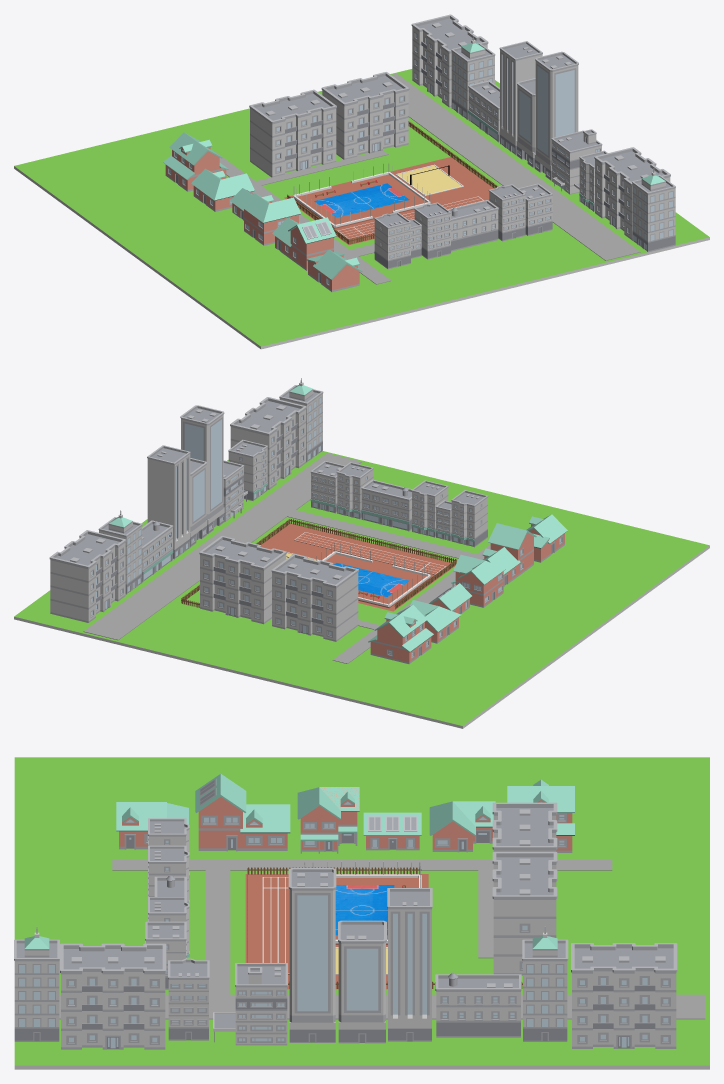
The model's file is environment.fbx.
3 renders of one model, top to bottom at view 1: azimuth 30°, elevation 25°; view 2: azimuth 150°, elevation 25°; view 3: azimuth 270°, elevation 25°, orthographic. The views are drawn at different scales.
Visible parts, largest first — view 1: PlayField, Cube.011, large_buildingA, large_buildingA.001, skyscraperB, large_buildingA.003, large_buildingA.002, skyscraperE.001, skyscraperF, skyscraperE, house_type03, house_type06 (+17 smaller); view 2: PlayField, Cube.011, large_buildingA, large_buildingA.003, large_buildingA.001, large_buildingA.002, skyscraperF, skyscraperB, house_type06, large_buildingF, house_type03, house_type02 (+19 smaller); view 3: PlayField, large_buildingA.002, large_buildingA.003, skyscraperB, skyscraperF, large_buildingA.001, skyscraperA, house_type03, large_buildingF.001, large_buildingG, skyscraperE.001, skyscraperE (+19 smaller).
Part boxes in pixels (bbox=[...]): PlayField: bbox=[14, 69, 709, 349]; Cube.011: bbox=[391, 73, 640, 260]; large_buildingA: bbox=[249, 89, 336, 177]; large_buildingA.001: bbox=[321, 72, 409, 159]; skyscraperB: bbox=[534, 51, 578, 180]; large_buildingA.003: bbox=[411, 14, 488, 107]; large_buildingA.002: bbox=[594, 147, 670, 239]; skyscraperE.001: bbox=[632, 168, 675, 252]; skyscraperF: bbox=[499, 41, 542, 154]; skyscraperE: bbox=[451, 35, 495, 119]; house_type03: bbox=[272, 217, 336, 270]; house_type06: bbox=[163, 132, 228, 191]; PlayField: bbox=[14, 451, 709, 728]; Cube.011: bbox=[83, 453, 361, 640]; large_buildingA: bbox=[271, 553, 358, 641]; large_buildingA.003: bbox=[49, 530, 126, 622]; large_buildingA.001: bbox=[199, 536, 286, 624]; large_buildingA.002: bbox=[230, 397, 306, 489]; skyscraperF: bbox=[147, 445, 190, 559]; skyscraperB: bbox=[180, 405, 224, 533]; house_type06: bbox=[368, 605, 433, 663]; large_buildingF: bbox=[361, 479, 411, 531]; house_type03: bbox=[482, 523, 536, 586]; house_type02: bbox=[451, 554, 505, 607]; PlayField: bbox=[14, 757, 709, 1069]; large_buildingA.002: bbox=[60, 943, 166, 1049]; large_buildingA.003: bbox=[571, 943, 677, 1048]; skyscraperB: bbox=[288, 868, 336, 1042]; skyscraperF: bbox=[387, 888, 432, 1041]; large_buildingA.001: bbox=[492, 852, 557, 975]; skyscraperA: bbox=[338, 920, 386, 1043]; house_type03: bbox=[195, 774, 290, 851]; large_buildingF.001: bbox=[435, 972, 521, 1037]; large_buildingG: bbox=[213, 963, 287, 1045]; skyscraperE.001: bbox=[14, 927, 59, 1041]; skyscraperE: bbox=[522, 926, 568, 1041].
Bounding box in the file's own units: 17159 × 4431 × 16371.
